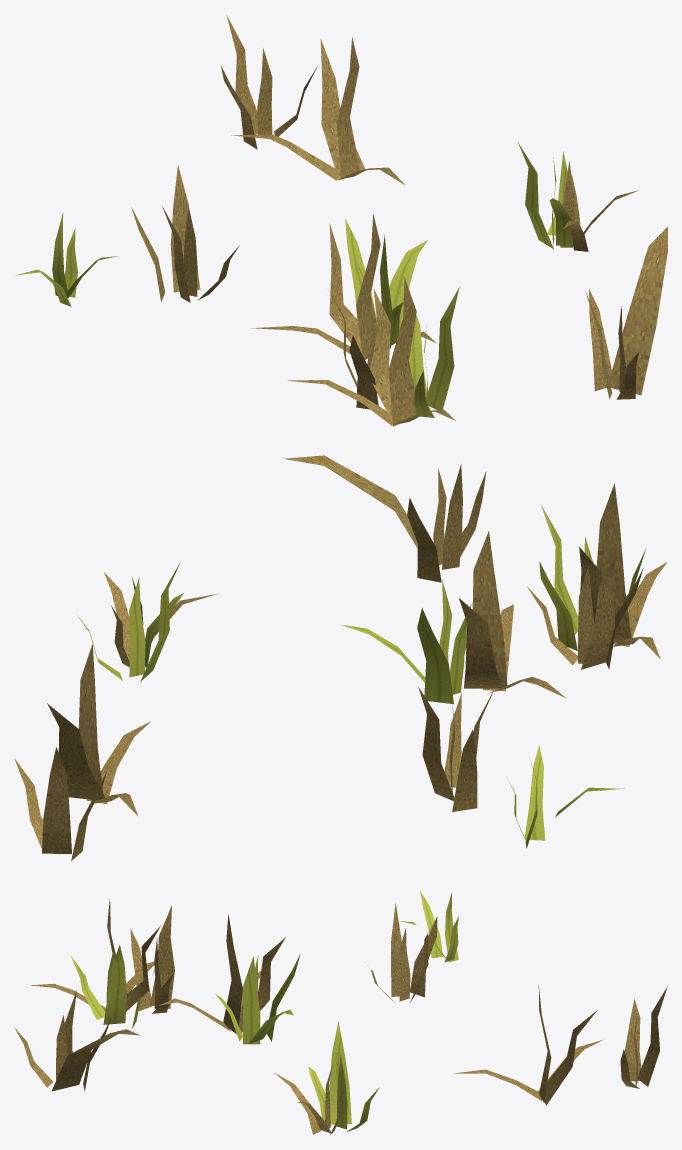
File: grass4.obj
3 views of the same model, one above another, from view 1: azimuth 30°, elevation 25°; view 2: azimuth 150°, elevation 25°; view 3: azimuth 270°, elevation 25° (orthographic). The views are drawn at different scales.
Visible parts, largest first — view 1: Plane.047, Plane.015; view 2: Plane.047, Plane.015; view 3: Plane.047, Plane.015.
Part boxes in pixels (bbox=[...]): Plane.047: bbox=[131, 15, 667, 426]; Plane.015: bbox=[15, 142, 572, 417]; Plane.047: bbox=[14, 455, 667, 860]; Plane.015: bbox=[77, 505, 646, 848]; Plane.047: bbox=[14, 899, 667, 1134]; Plane.015: bbox=[71, 891, 458, 1132].
Size of the model in its own units: 5.24 by 1.35 by 6.62.
2 materials, 2 textured.
